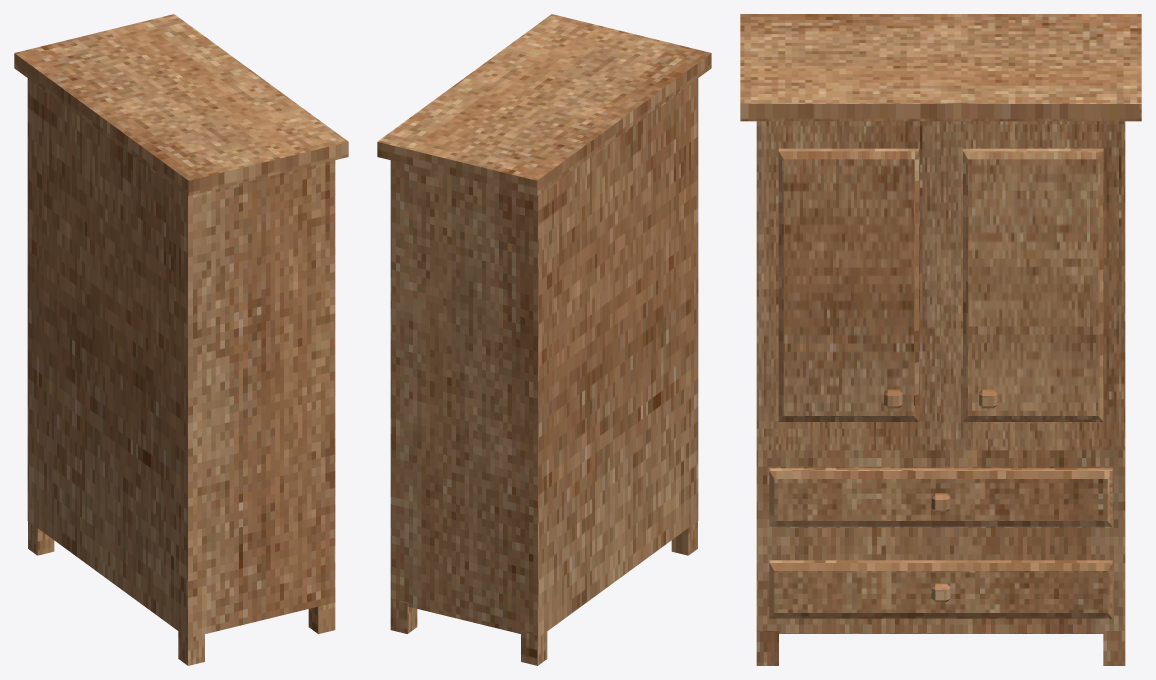
The model's file is cupboard.fbx.
3 views of the same model, side by side, from view 1: azimuth 30°, elevation 25°; view 2: azimuth 150°, elevation 25°; view 3: azimuth 270°, elevation 25° (orthographic). The views are drawn at different scales.
Visible parts, largest first — view 1: cupboard; view 2: cupboard; view 3: cupboard.
Part boxes in pixels (x1,y1,x2,y2): cupboard: (14,14,348,665); cupboard: (377,14,711,665); cupboard: (740,14,1141,665).
Bounding box in the file's own units: 310 × 876 × 564.
